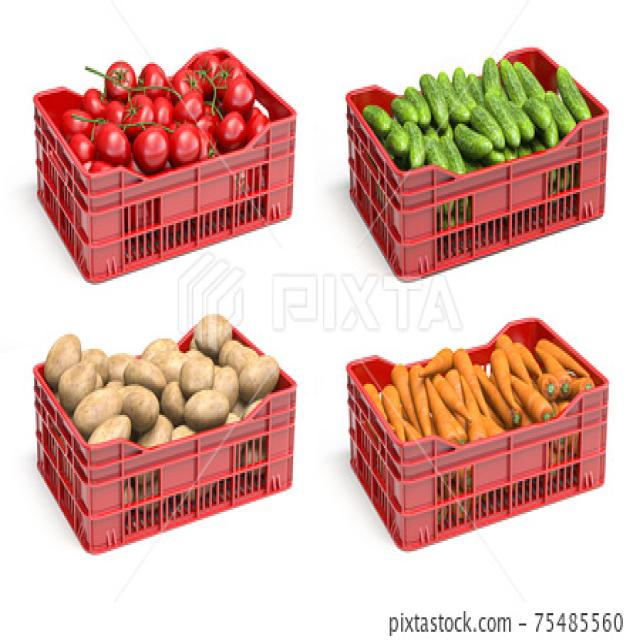basket: (27, 62, 310, 287), (342, 356, 611, 556), (347, 84, 610, 282), (28, 365, 296, 558)
